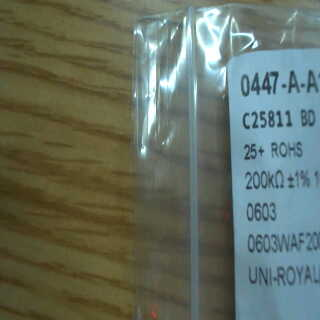200kR: (243, 164, 287, 192)
